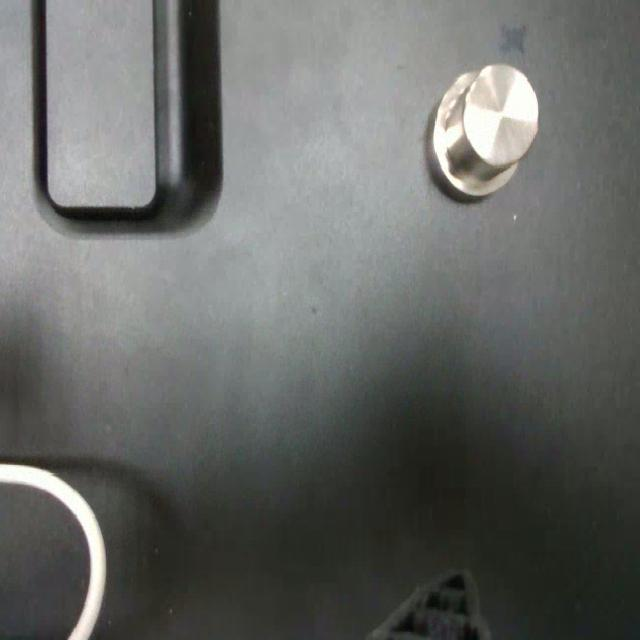sensor: (428, 62, 538, 199)
